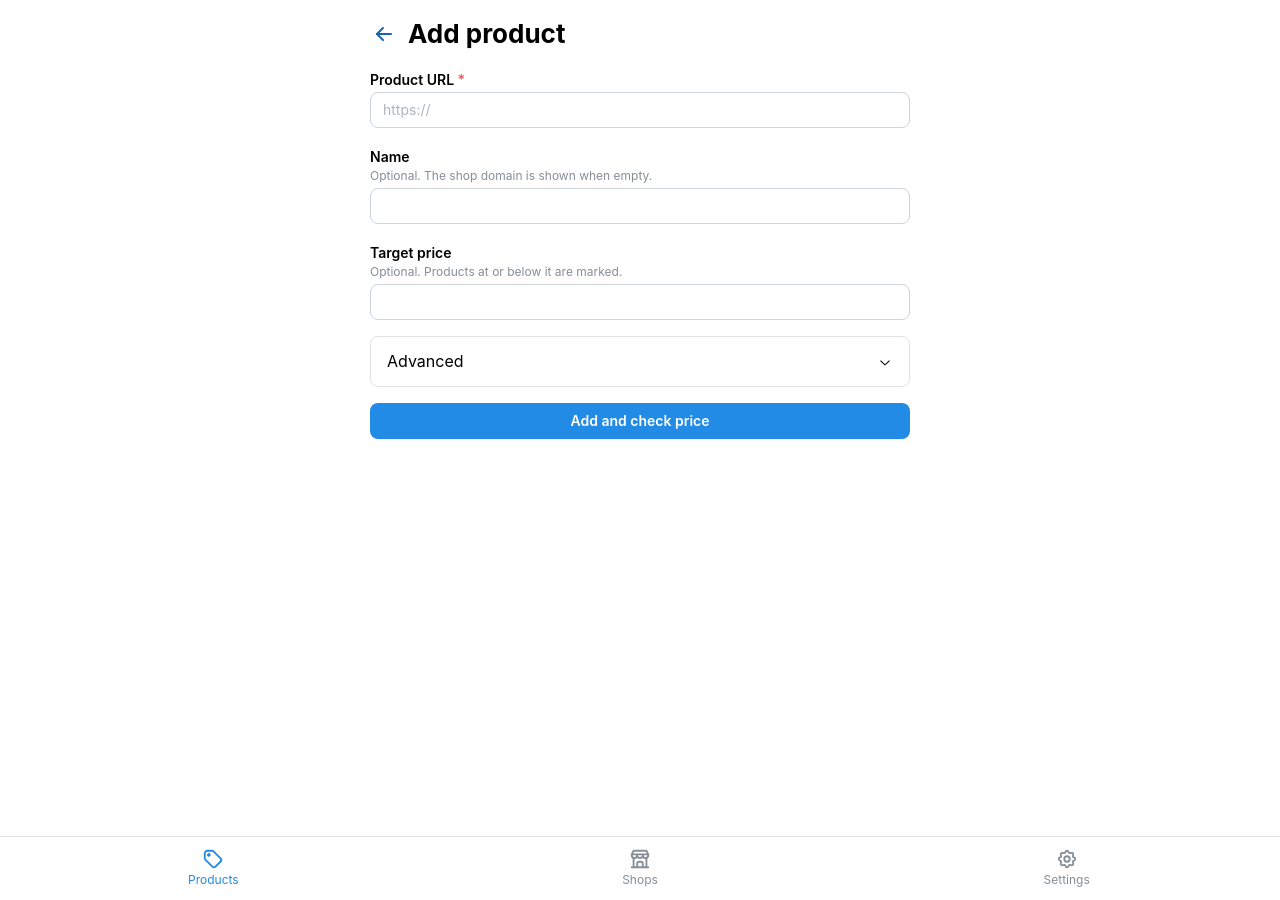
Test: NewProductPage › shows a duplicate URL under the URL field
The image size is (1280, 900).
Type "https://shop.example/p/1" into the field labelled "Product URL *" at [640, 110], box [370,92,910,128]
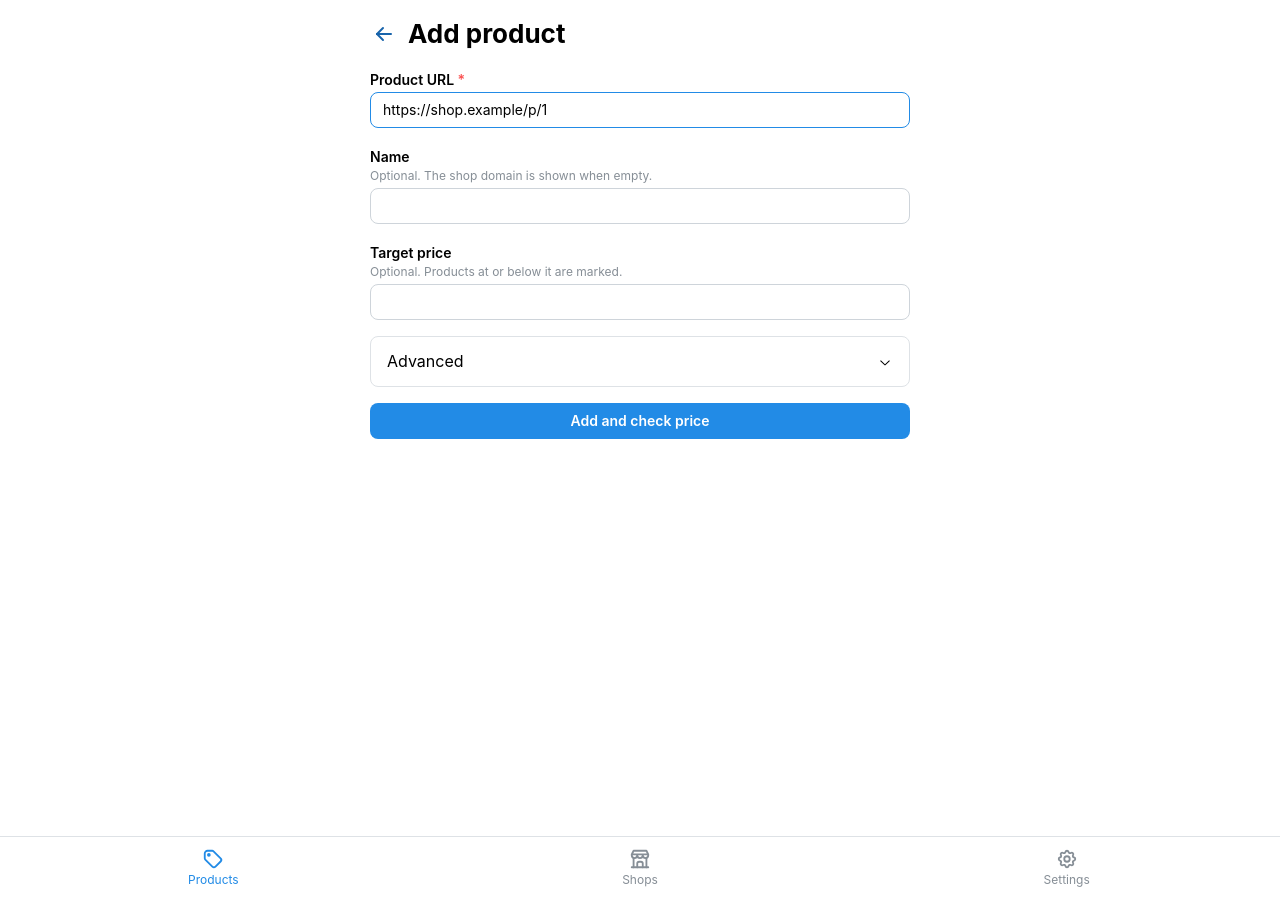
Click the button "Add and check price" at [640, 421], box [370,403,910,439]
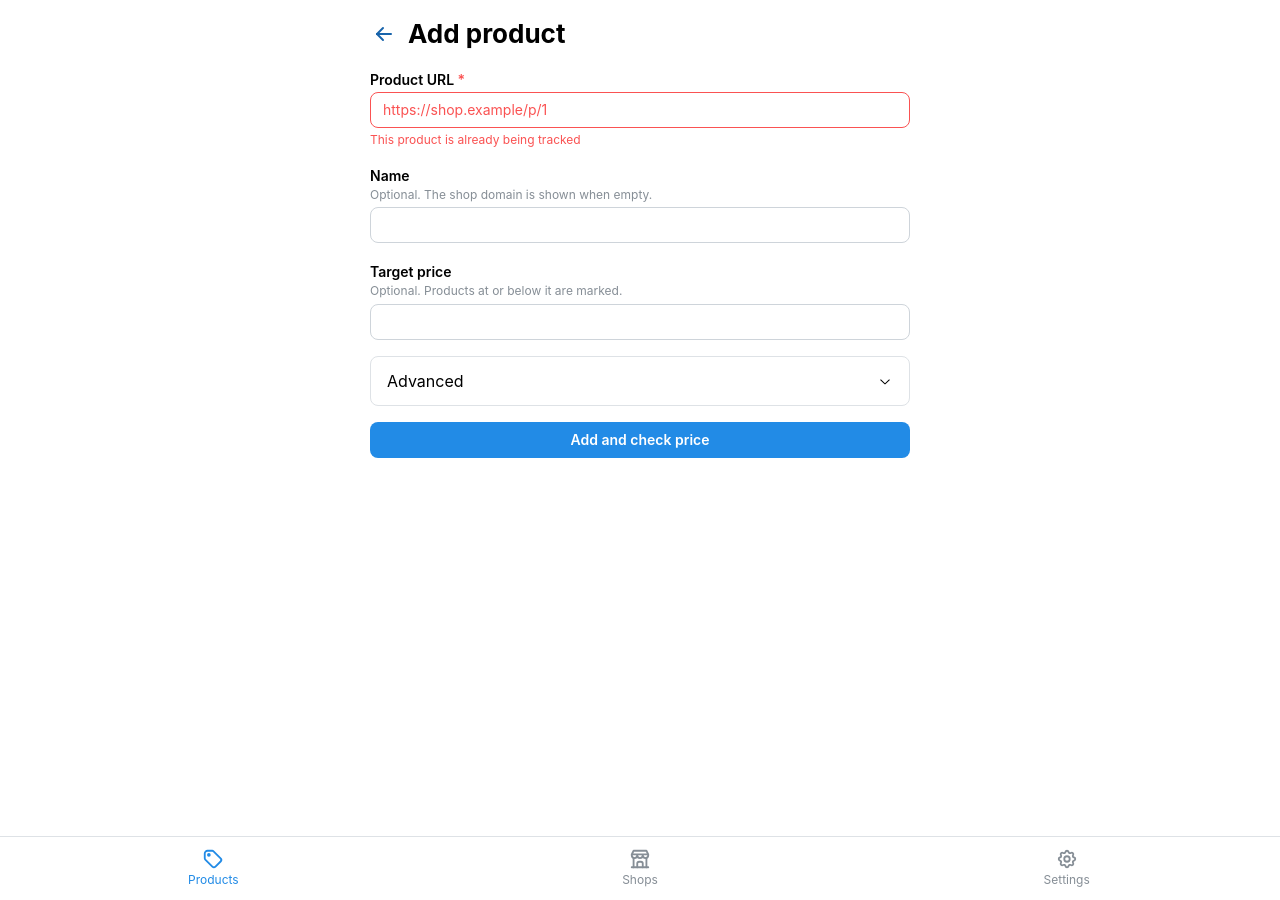
expect the text "This product is already being tracked" is shown: met, box [370,132,581,147]
